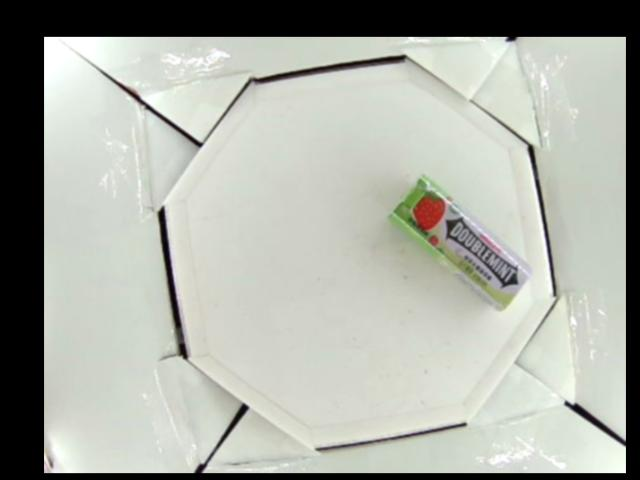Bottle: (390, 174, 535, 310)
